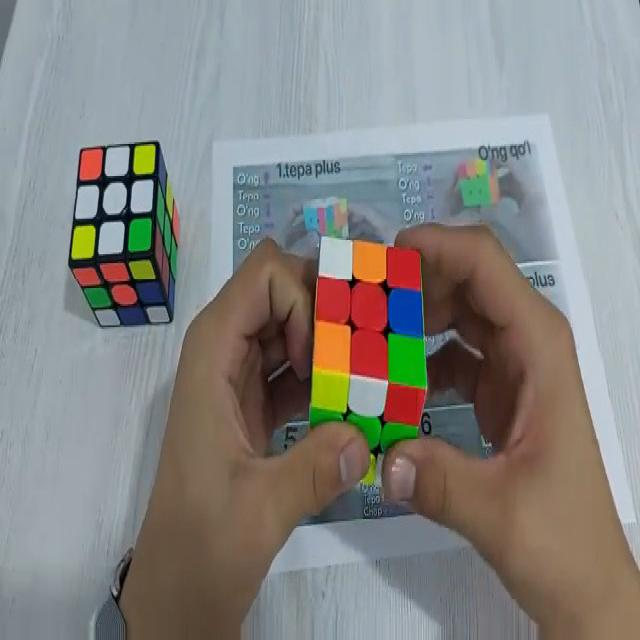Rub: (312, 233, 428, 483), (68, 140, 179, 330)
